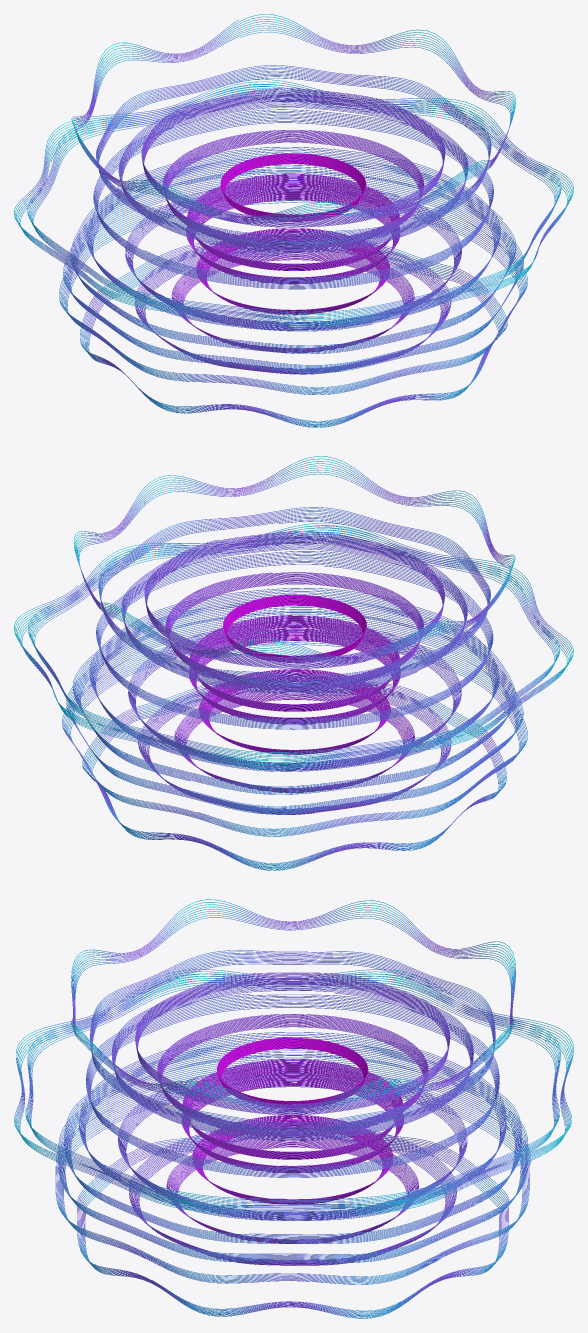
The model's file is coil_5_field_lines.gltf.
3 views of the same model, one above another, from view 1: azimuth 30°, elevation 25°; view 2: azimuth 150°, elevation 25°; view 3: azimuth 270°, elevation 25° (orthographic). The views are drawn at different scales.
Parts seen in each view (by area): view 1: Renderer Node; view 2: Renderer Node; view 3: Renderer Node.
Boxes of the visible parts, x1,y1,x2,y2 form: Renderer Node: (14,14,573,427); Renderer Node: (14,456,573,870); Renderer Node: (14,899,573,1318).
Size of the model in its own units: 1.06 by 0.5278 by 1.07.
1 material, 1 textured.
